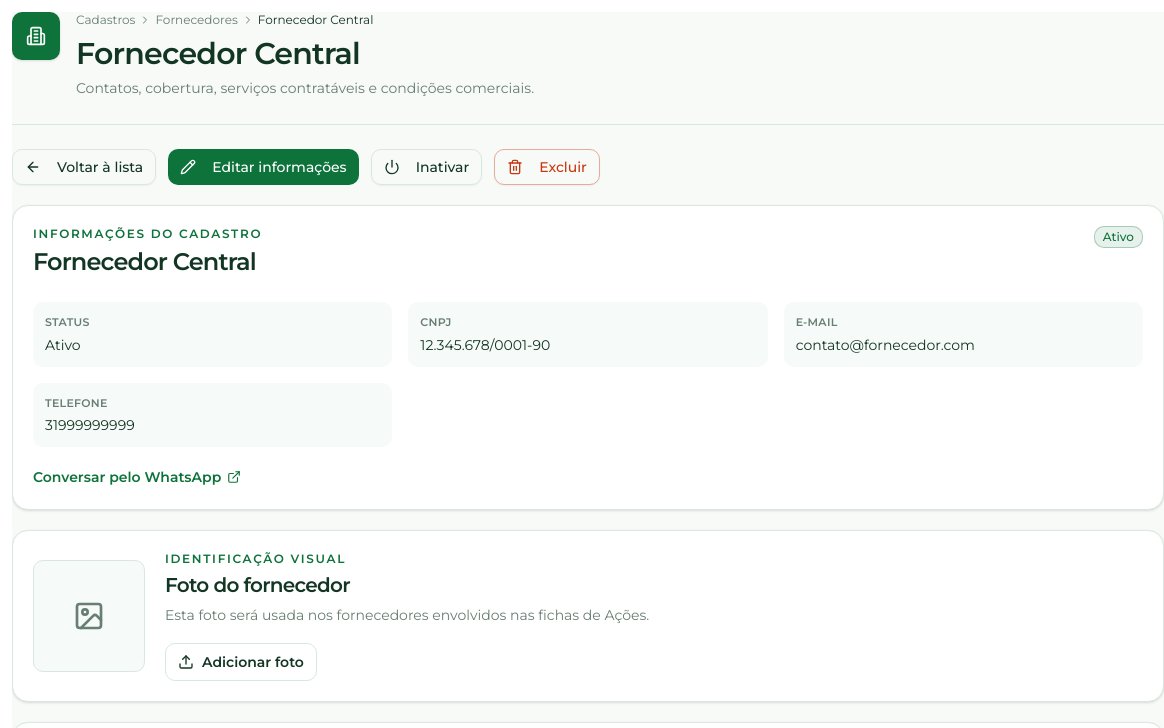
fornecedores › sinaliza CNPJ obrigatório e orienta o formato no editor
Step 1. Click the button "Editar informações" → point(263, 167), box [168, 149, 359, 185]
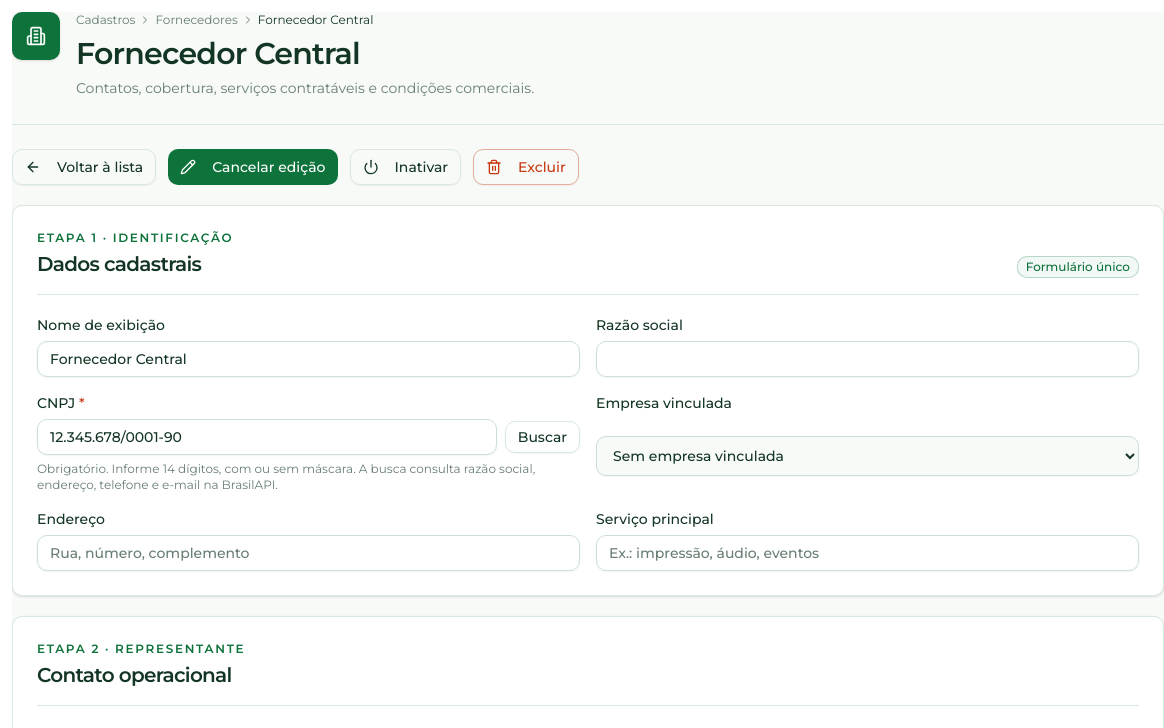
Expected: the text "Obrigatório. Informe 14 dígitos" is shown, [37, 461, 535, 492]
